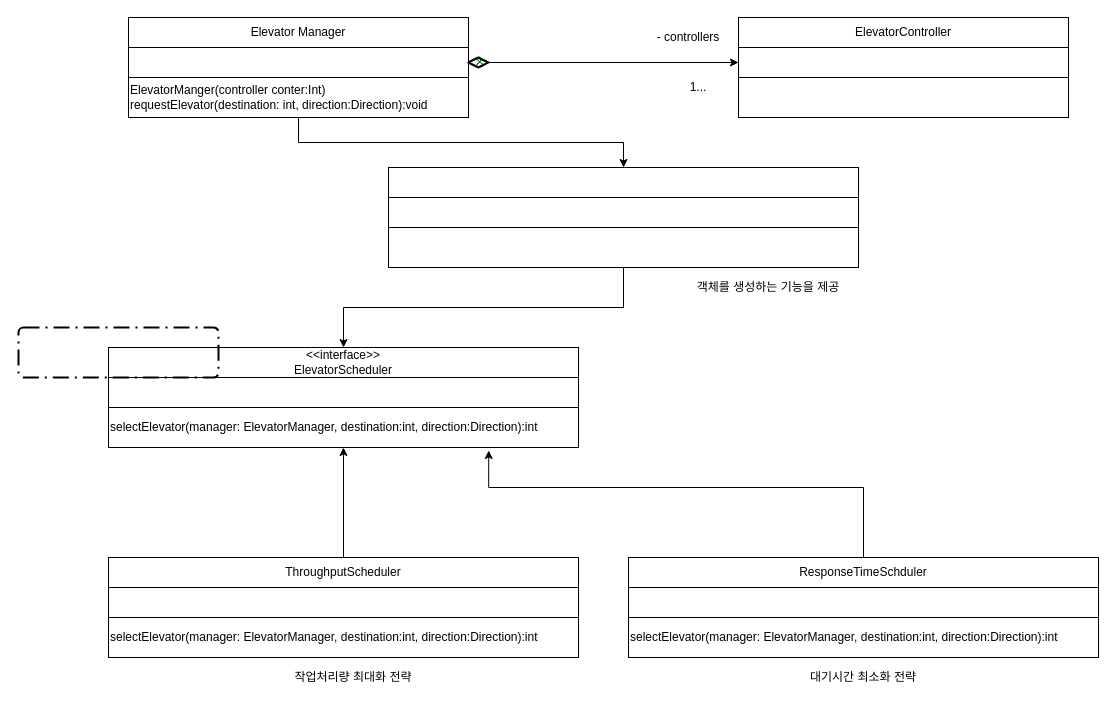
The diagram is 1116 pixels wide and 705 high, and some of its shapes have lost their labels. The shapes that lost their labels are listed below. From the top down, each one's centre as x and y in pixels, then its label:
(x=903, y=62): id:int curFloor:int
(x=903, y=97): ElevatorController(id:Int) gotoFloor(destination: int):void
(x=623, y=182): ScheduleFactory
(x=623, y=247): getScheduler(stretegyID:SchedulingStrategyID):ElevetorScheduler
(x=118, y=352): Strategy
